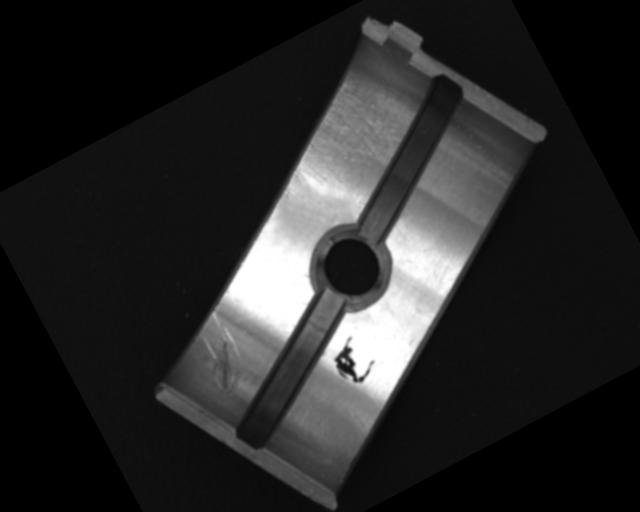blot: (321, 325, 382, 391)
gap: (311, 68, 507, 248), (196, 284, 386, 454)
hole: (295, 212, 406, 323)
nick: (179, 306, 257, 403)
scratch: (246, 51, 432, 213)
